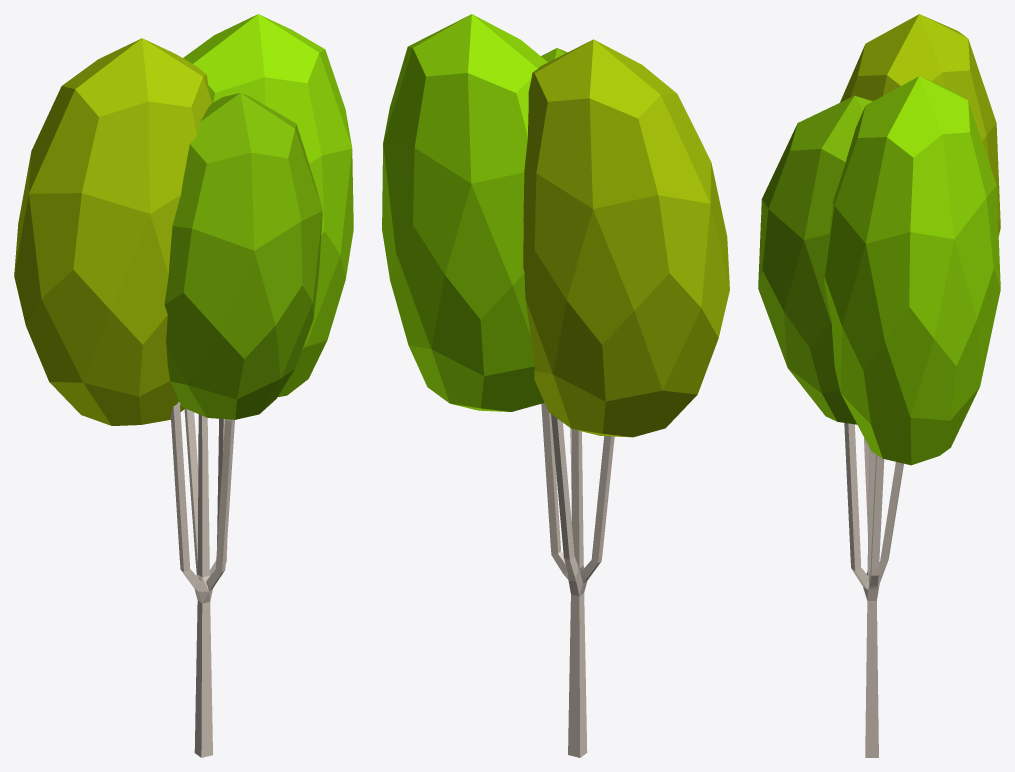
The model's file is birchTree.glb.
3 renders of one model, left to right at view 1: azimuth 30°, elevation 25°; view 2: azimuth 150°, elevation 25°; view 3: azimuth 270°, elevation 25°, orthographic. The views are drawn at different scales.
Parts seen in each view (by area): view 1: Cube; view 2: Cube; view 3: Cube.
Part boxes in pixels (x1=…): Cube: x1=14, y1=14, x2=353, y2=757; Cube: x1=382, y1=14, x2=729, y2=757; Cube: x1=758, y1=14, x2=1000, y2=757.
Size of the model in its own units: 4.75 by 10 by 3.05.
